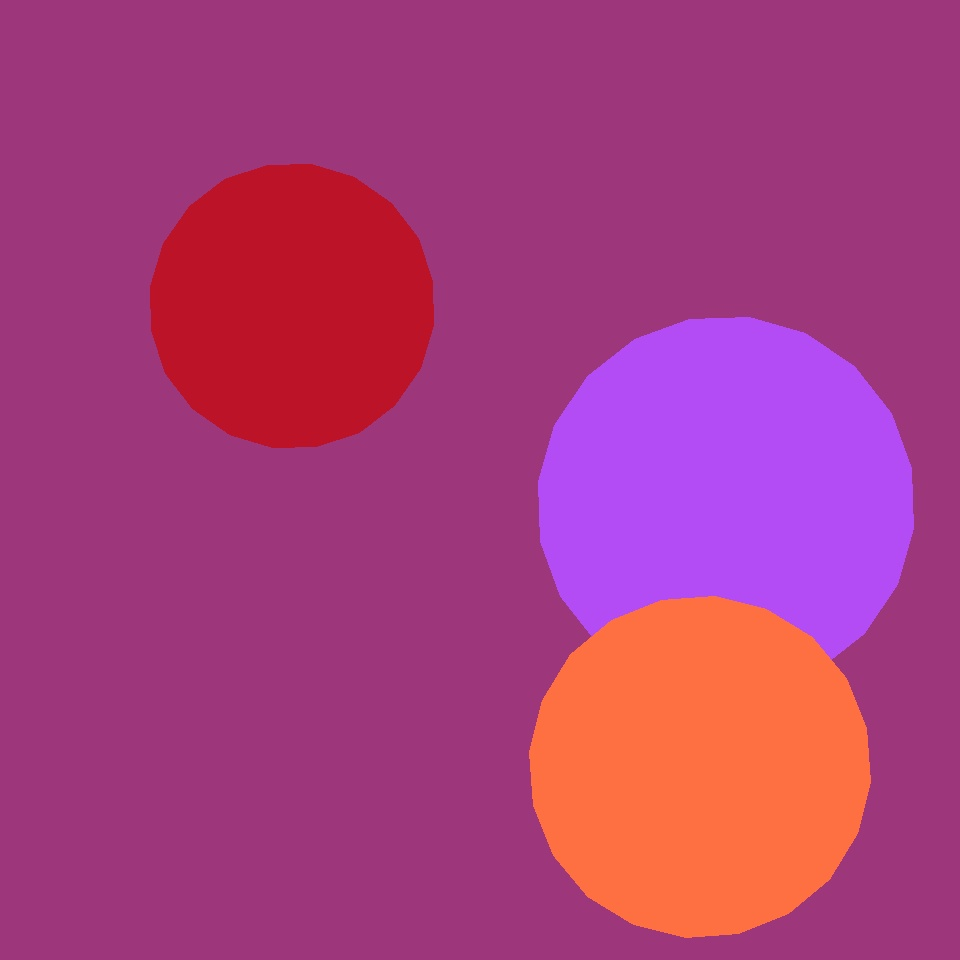circle: (84, 692, 320, 917)
square: (750, 206, 955, 412), (736, 390, 835, 490), (427, 180, 521, 274)
triangle: (538, 317, 914, 692), (530, 596, 870, 938), (150, 164, 434, 448)
